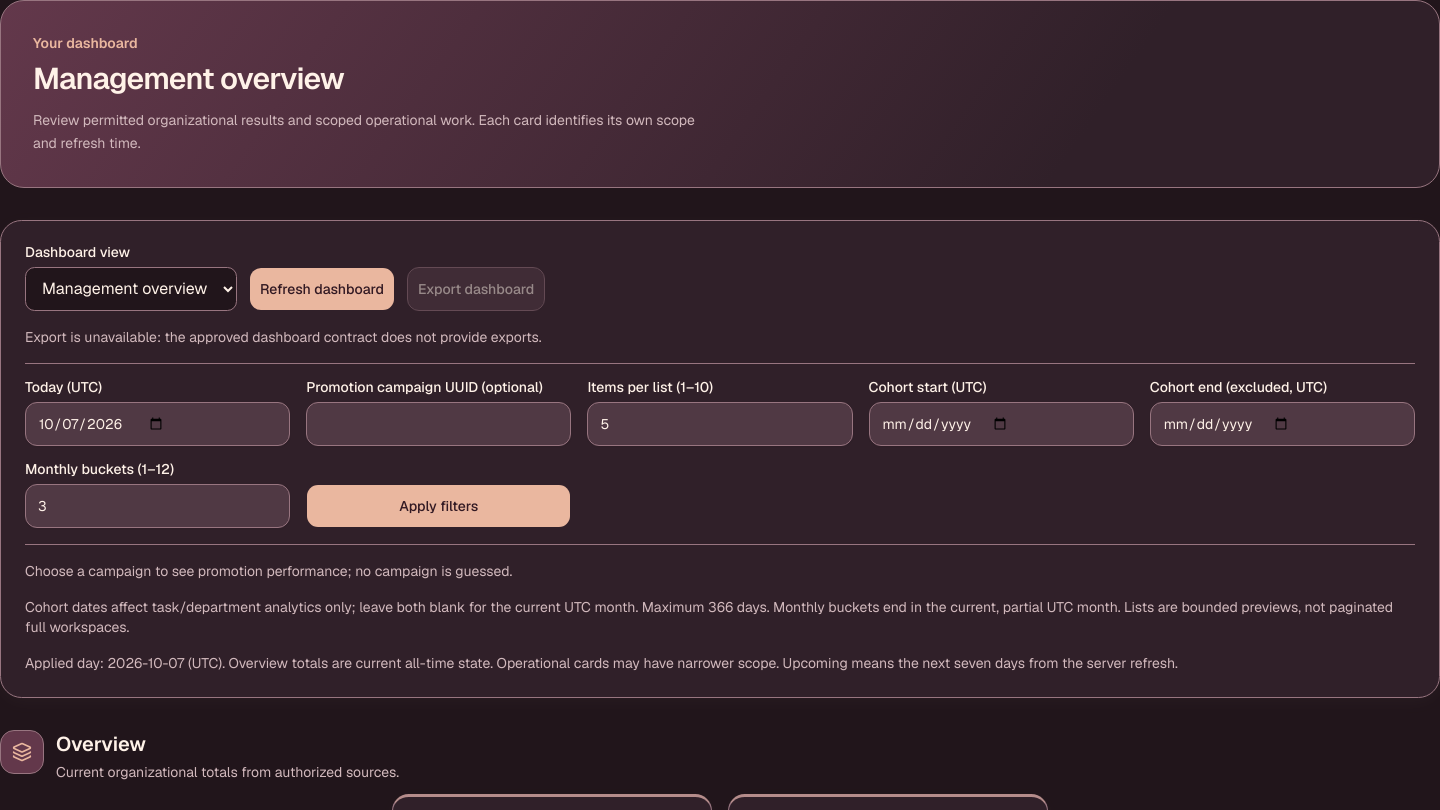
Test: live dashboard integration › labels same-epoch data stale on a transient failure without leaking raw errors
Click the button "Refresh dashboard" at x=322, y=288, box top-left (249, 266), bottom-right (395, 310)
(page scrolled)
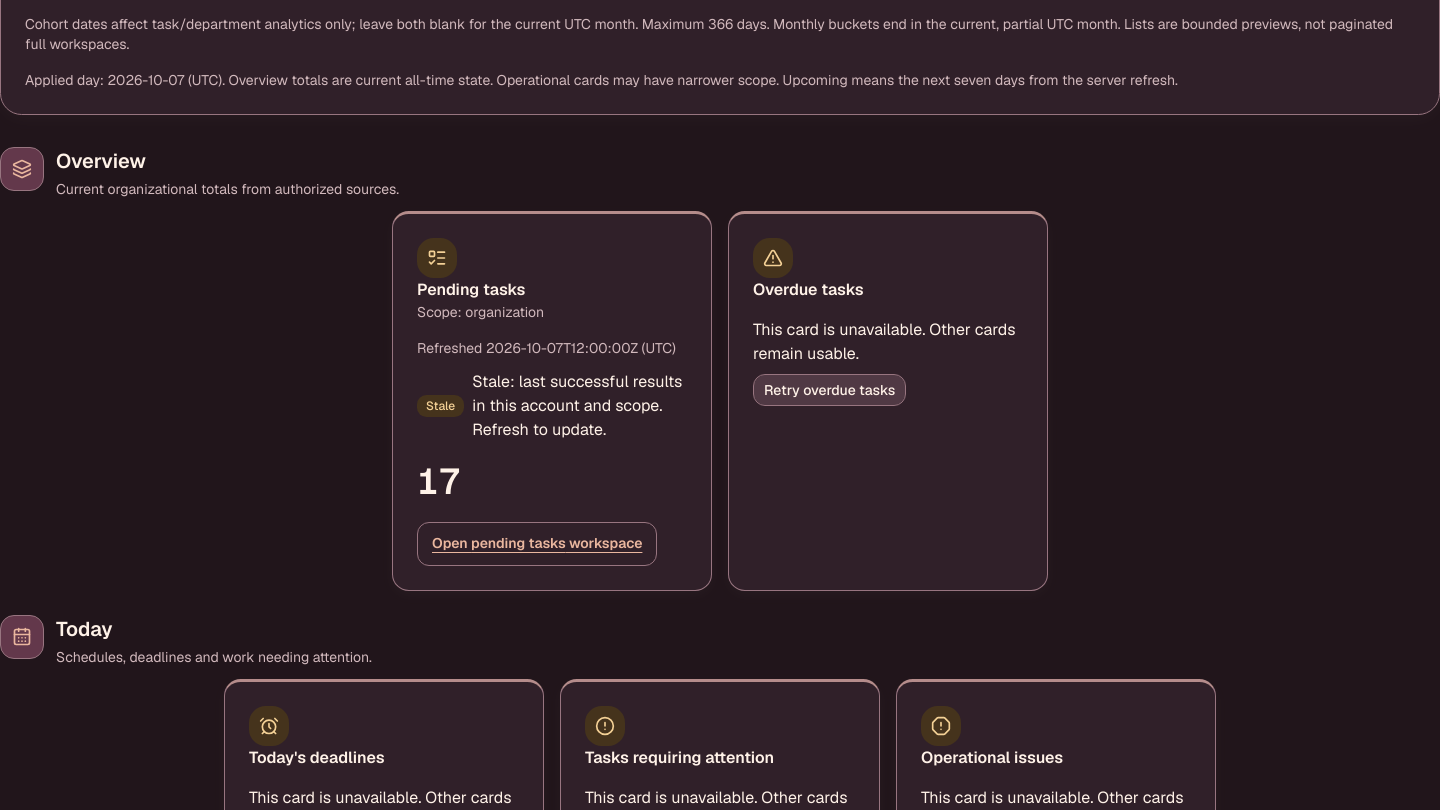
Check: the text "17" is shown, box top-left (417, 458), bottom-right (460, 504)
Check: the text "Stale:" is shown, box top-left (472, 370), bottom-right (682, 440)
